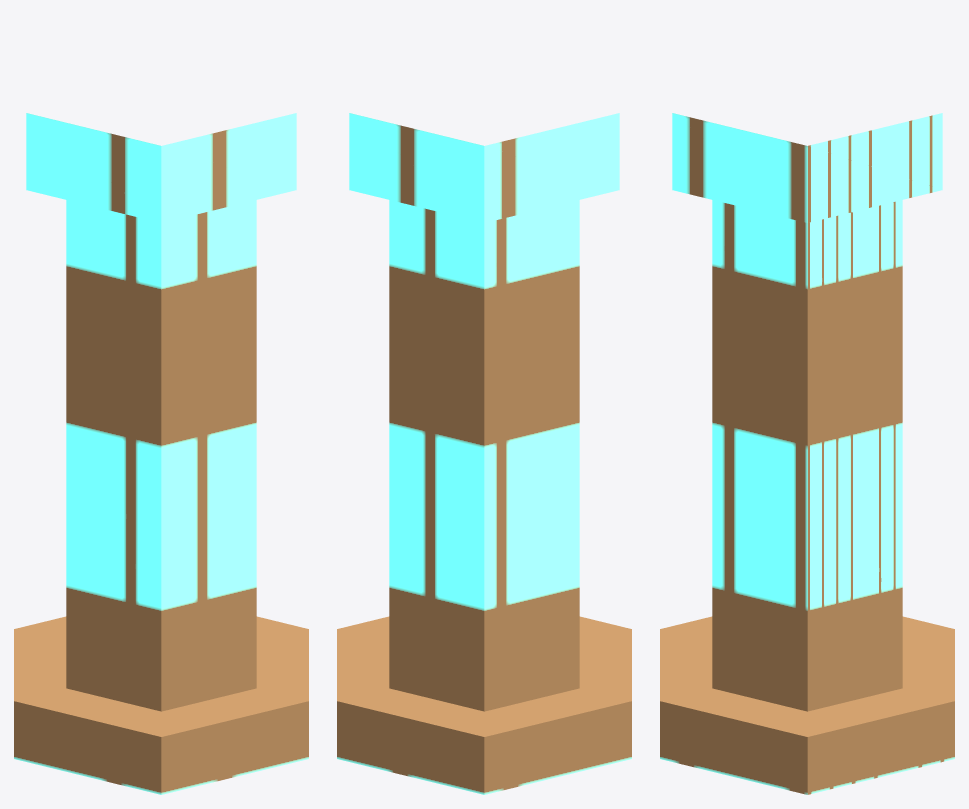
The model's file is pillar.gltf.
3 views of the same model, side by side, from view 1: azimuth 30°, elevation 25°; view 2: azimuth 150°, elevation 25°; view 3: azimuth 270°, elevation 25° (orthographic).
Visible parts, largest first — view 1: pillar; view 2: pillar; view 3: pillar.
Boxes of the visible parts, left/top/right/bottom form: pillar: left=14, top=113, right=308, bottom=794; pillar: left=337, top=113, right=631, bottom=794; pillar: left=660, top=113, right=954, bottom=794.
Size of the model in its own units: 0.48 by 1 by 0.4157.
